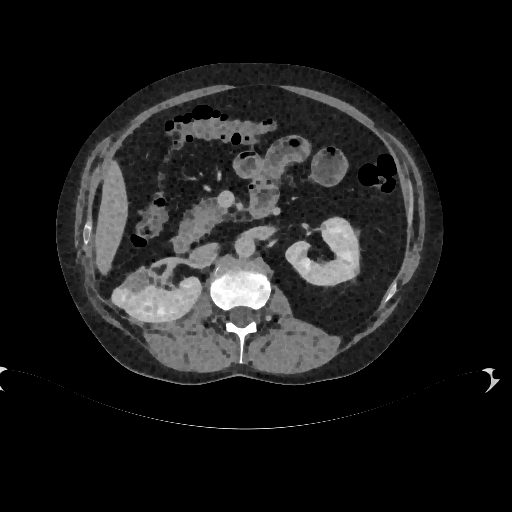Lesion: (123, 273, 153, 294)
